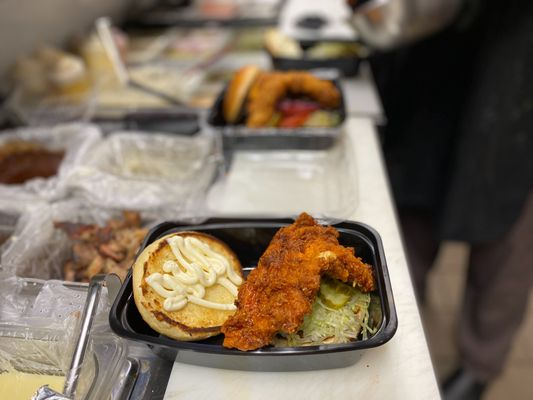curry: (7, 29, 425, 399)
